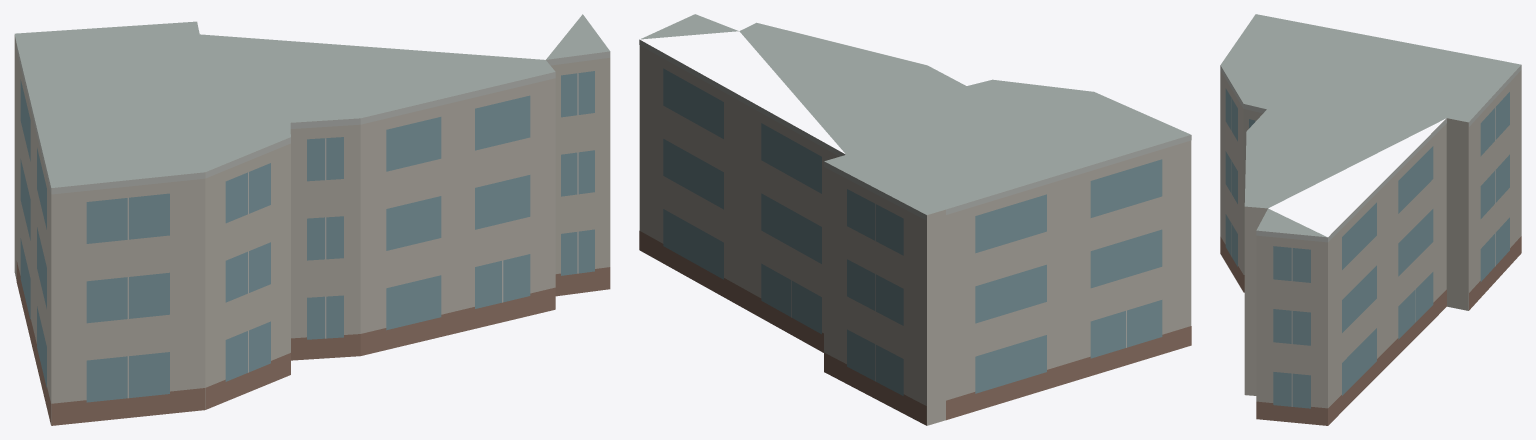
File: survey-upis-32945710.glb
The picture shows the model from 3 angles, left to right: view 1: azimuth 30°, elevation 25°; view 2: azimuth 150°, elevation 25°; view 3: azimuth 270°, elevation 25°; orthographic projection. The views are drawn at different scales.
Parts seen in each view (by area): view 1: survey-upis-32945710.tmp; view 2: survey-upis-32945710.tmp; view 3: survey-upis-32945710.tmp.
Boxes of the visible parts, x1,y1,x2,y2 form: survey-upis-32945710.tmp: (14,14,610,425); survey-upis-32945710.tmp: (639,14,1191,425); survey-upis-32945710.tmp: (1220,14,1521,425).
Size of the model in its own units: 23.26 by 9.15 by 13.26.
